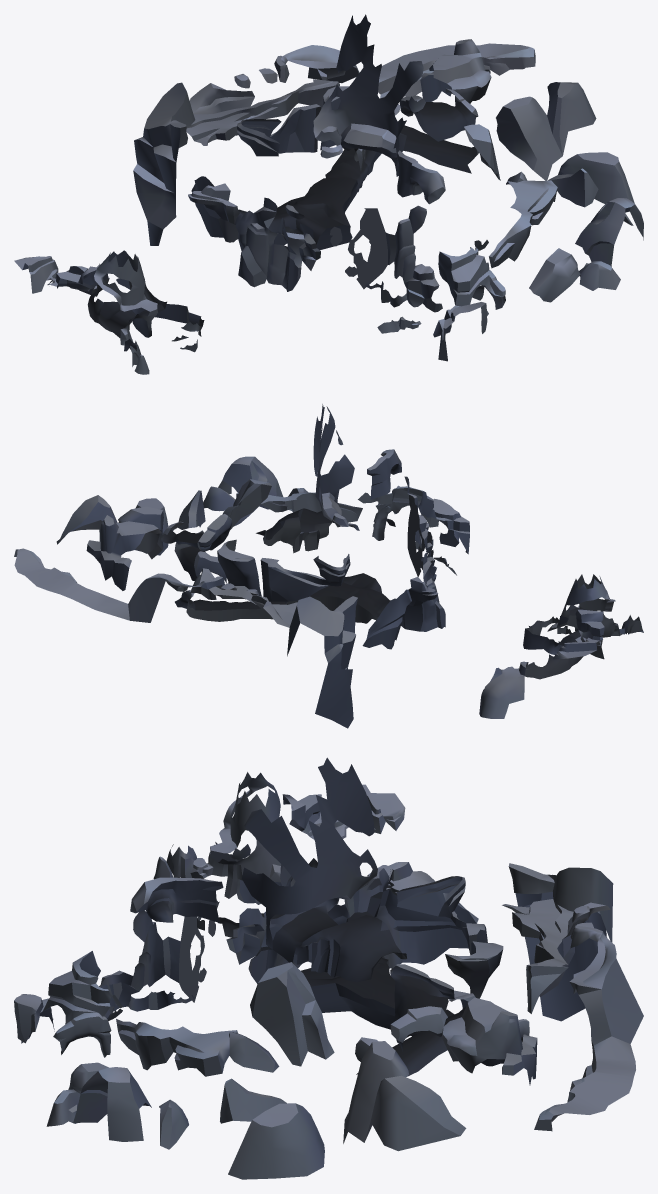
File: MtBlizzardRock.fbx
3 renders of one model, top to bottom at view 1: azimuth 30°, elevation 25°; view 2: azimuth 150°, elevation 25°; view 3: azimuth 270°, elevation 25°, orthographic. The views are drawn at different scales.
Parts seen in each view (by area): view 1: MtBlizzardRock; view 2: MtBlizzardRock; view 3: MtBlizzardRock.
Boxes of the visible parts, x1=… form: MtBlizzardRock: x1=14, y1=14, x2=643, y2=374; MtBlizzardRock: x1=14, y1=404, x2=643, y2=728; MtBlizzardRock: x1=14, y1=757, x2=643, y2=1179.
Size of the model in its own units: 18600 by 8189 by 13804.
